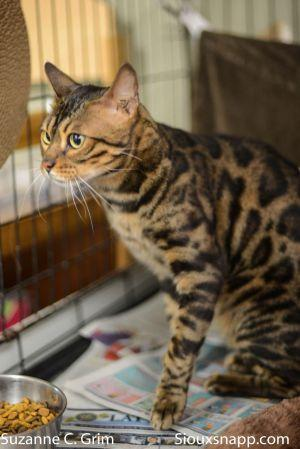bengal: (32, 53, 155, 193)
